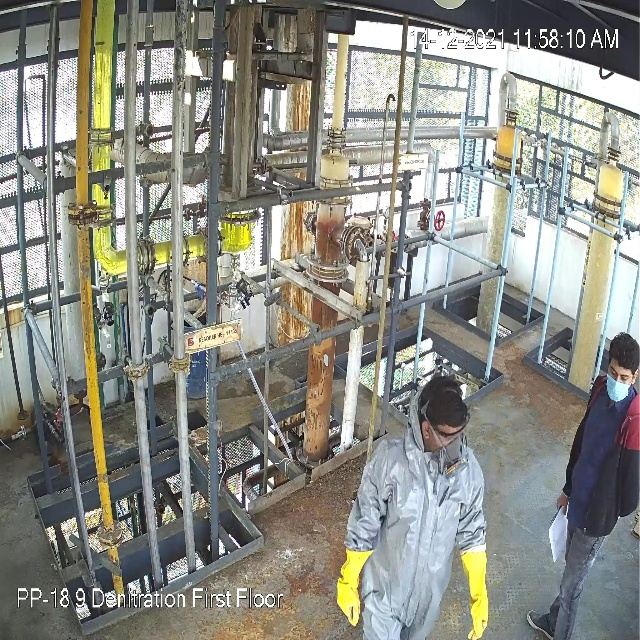Mascara: (436, 437, 471, 480)
Sin_gafas: (606, 361, 629, 386)
